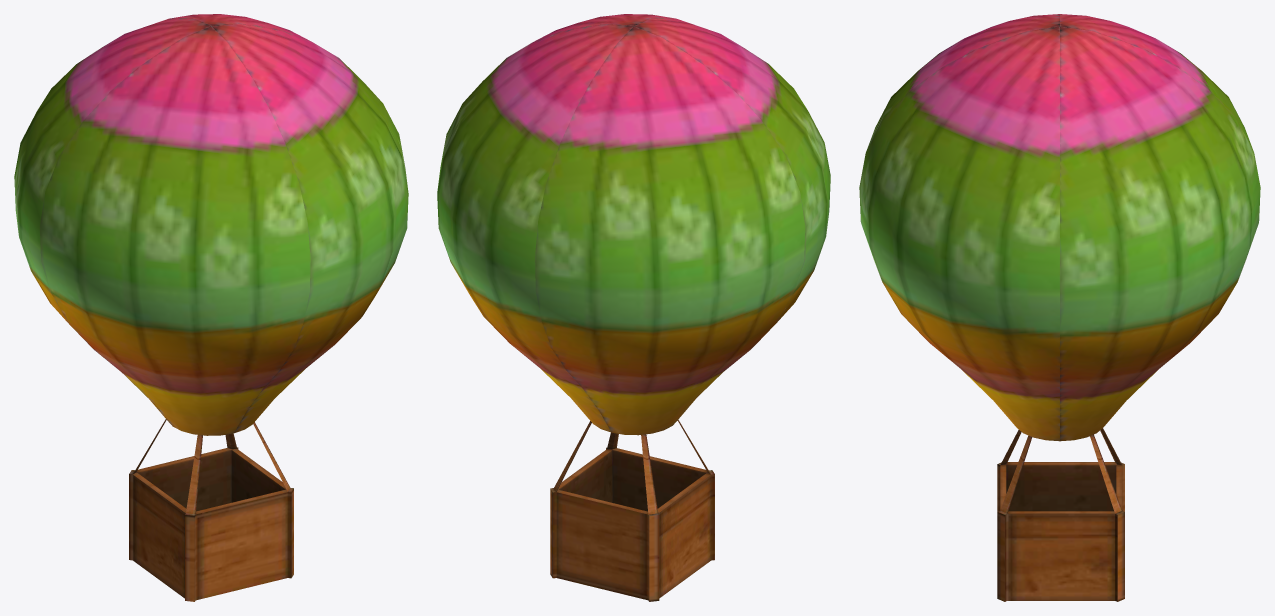
The model's file is ballon Parent UD.fbx.
The picture shows the model from 3 angles, left to right: view 1: azimuth 30°, elevation 25°; view 2: azimuth 150°, elevation 25°; view 3: azimuth 270°, elevation 25°; orthographic projection.
Visible parts, largest first — view 1: Balloon_Type; view 2: Balloon_Type; view 3: Balloon_Type.
Boxes of the visible parts, x1,y1,x2,y2 form: Balloon_Type: (14,14,408,601); Balloon_Type: (437,14,830,601); Balloon_Type: (859,14,1260,601).
Size of the model in its own units: 37.49 by 56.51 by 37.49.
